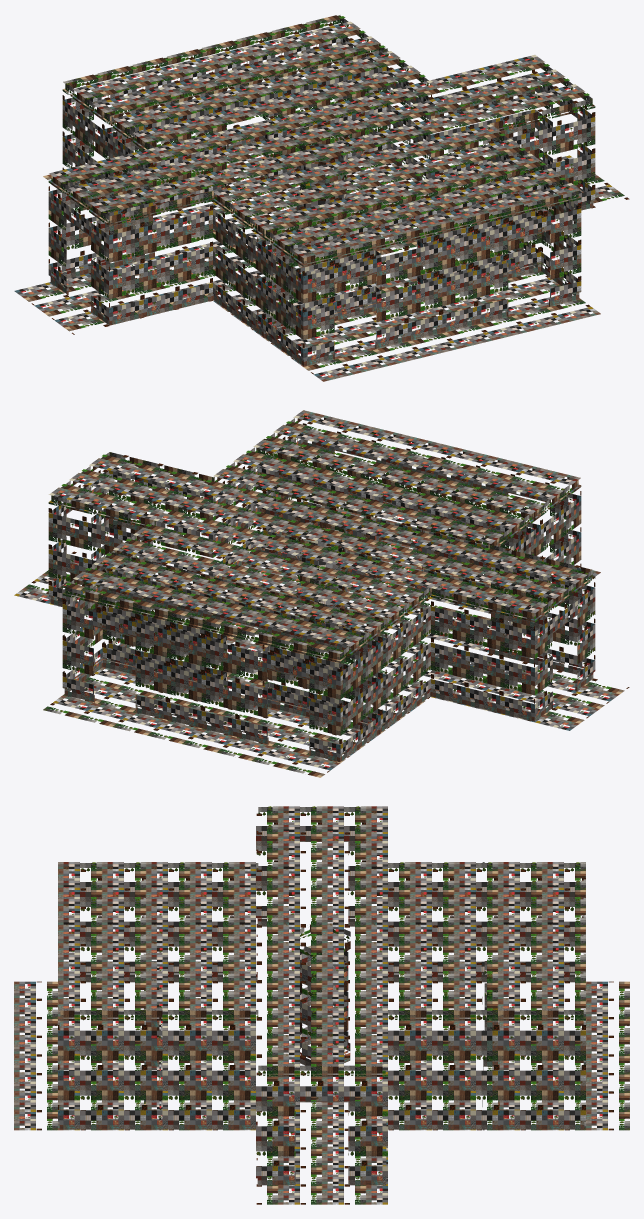
The model's file is RoomOfficeSquareSubdivided.fbx.
The picture shows the model from 3 angles, top to bottom: view 1: azimuth 30°, elevation 25°; view 2: azimuth 150°, elevation 25°; view 3: azimuth 270°, elevation 25°; orthographic projection. The views are drawn at different scales.
Parts seen in each view (by area): view 1: OfficeSquareSubdividedModel; view 2: OfficeSquareSubdividedModel; view 3: OfficeSquareSubdividedModel.
Boxes of the visible parts, x1,y1,x2,y2 form: OfficeSquareSubdividedModel: (14, 15, 629, 381); OfficeSquareSubdividedModel: (14, 410, 629, 777); OfficeSquareSubdividedModel: (14, 806, 629, 1204).
Size of what is drawn, in the model's own units: 16 by 3 by 14.
